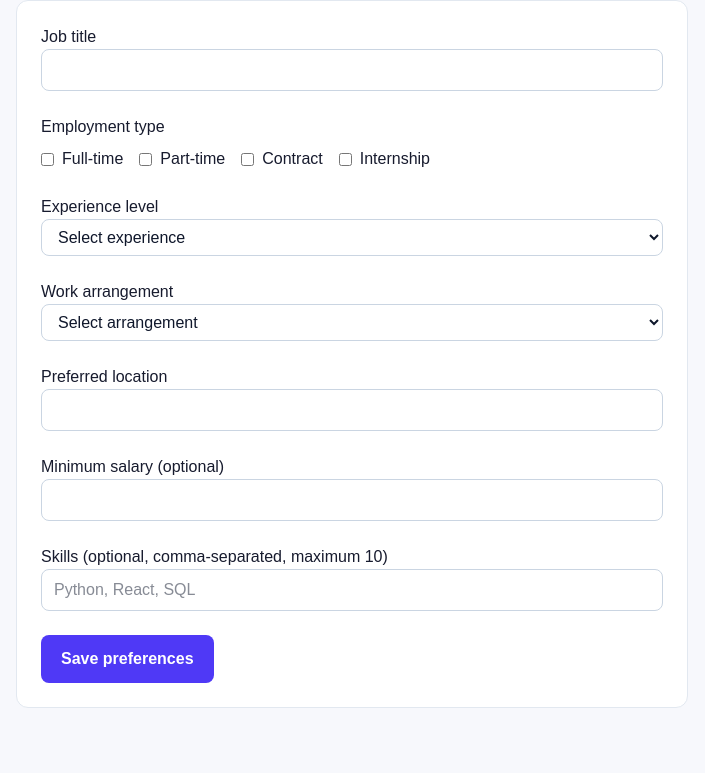
Test case: JobPreferencesForm › saves valid preferences with salary and skills
Type "Frontend Developer" into the field labelled "Job title" at (352, 70), box x1=41 y1=49 x2=663 y2=91
Type "Toronto" into the field labelled "Preferred location" at (352, 410), box x1=41 y1=389 x2=663 y2=431
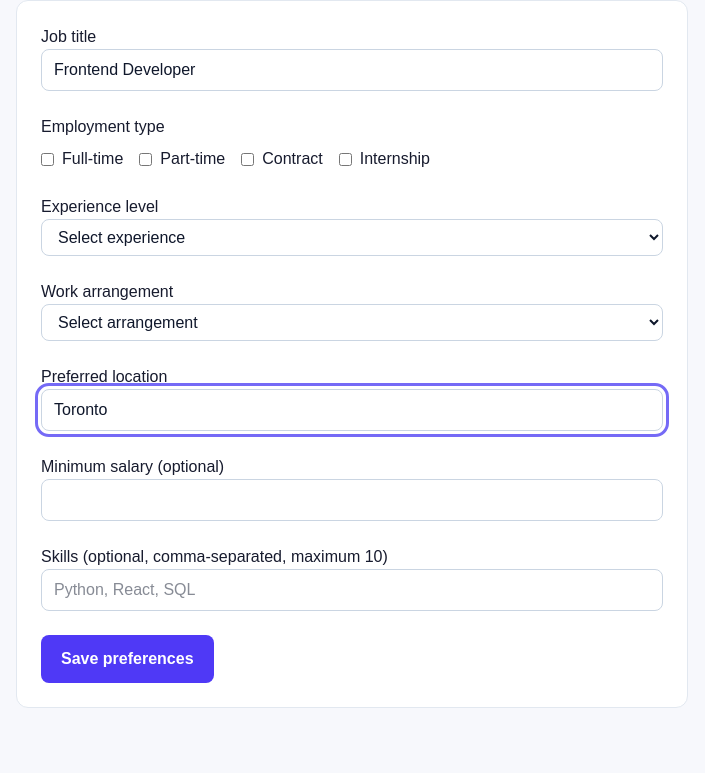
Click the checkbox labelled "Full-time" at (48, 159), box x1=41 y1=152 x2=54 y2=166
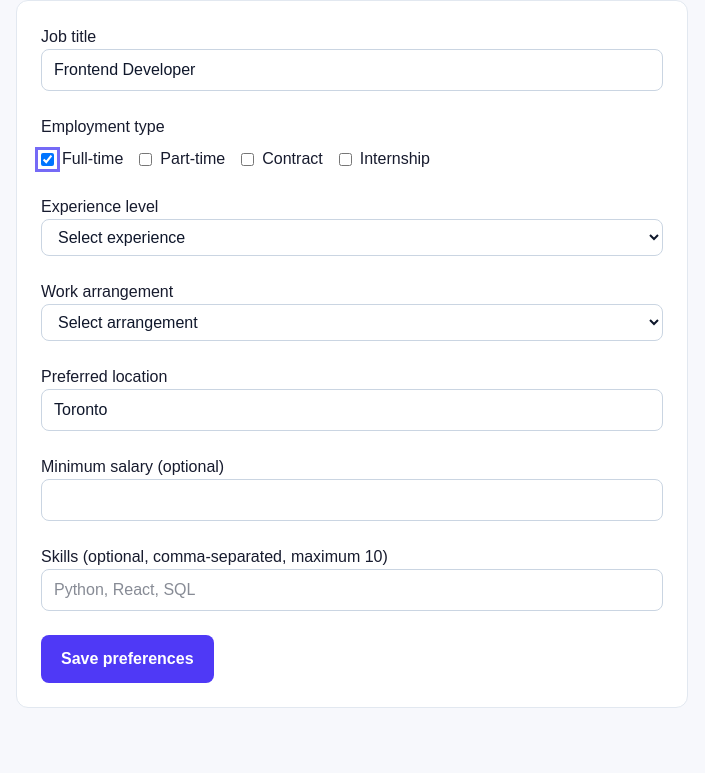
Select "Entry level" in the dropdown labelled "Experience level" at (352, 238), box x1=41 y1=219 x2=663 y2=256
Select "Remote" in the dropdown labelled "Work arrangement" at (352, 322), box x1=41 y1=304 x2=663 y2=341
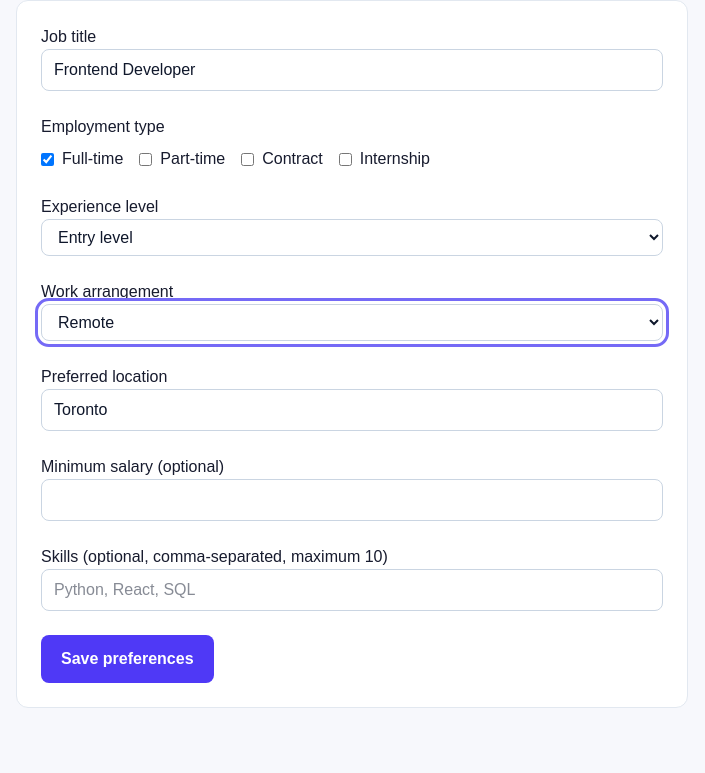
Type "70000" into the number field labelled "Minimum salary (optional)" at (352, 500), box x1=41 y1=479 x2=663 y2=521
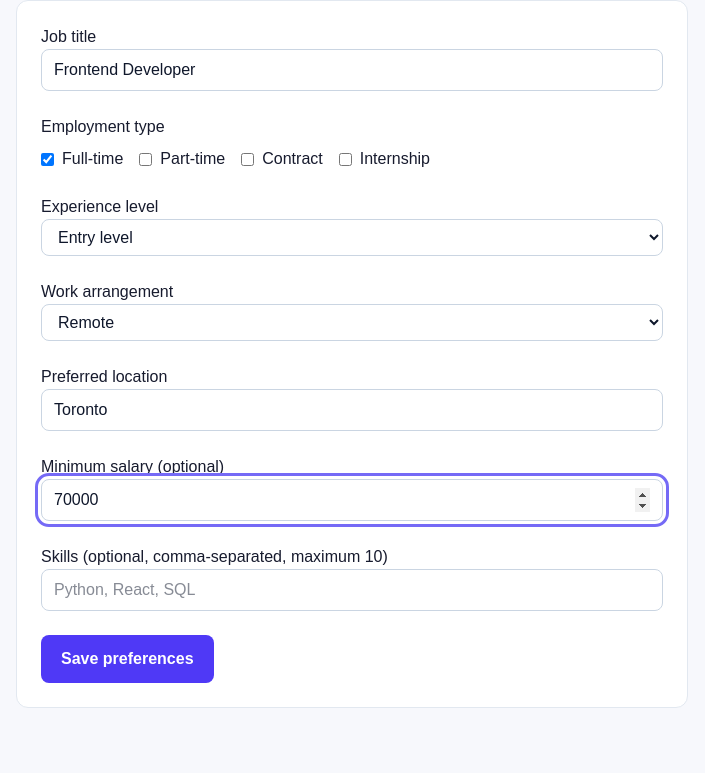
Type "React, JavaScript, Git" into the field labelled "Skills (optional, comma-separated, maximum 10)" at (352, 590), box x1=41 y1=569 x2=663 y2=611
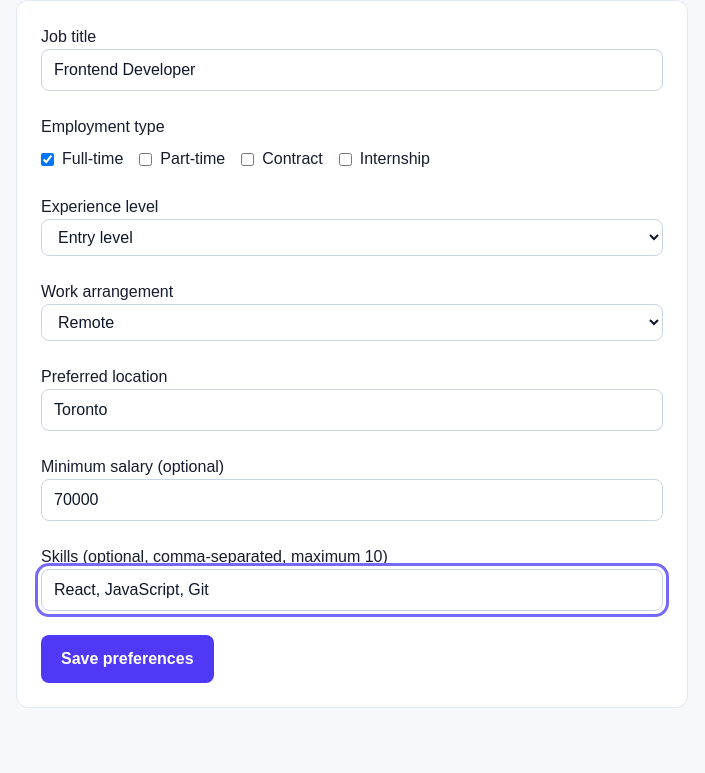
Click the button "Save preferences" at (127, 659), box x1=41 y1=635 x2=214 y2=683
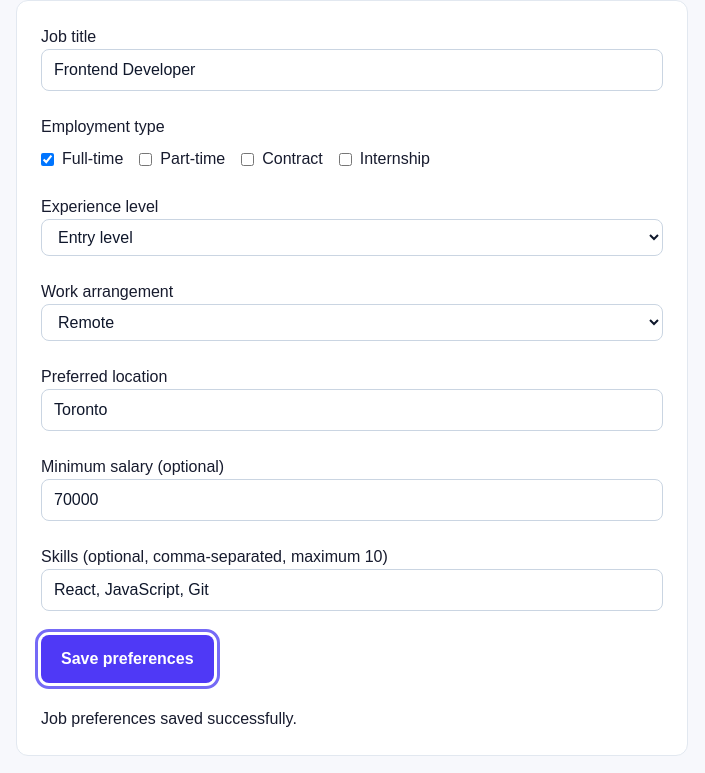
Expected: the message reads "Job preferences saved successfully.", x1=41 y1=710 x2=297 y2=727
